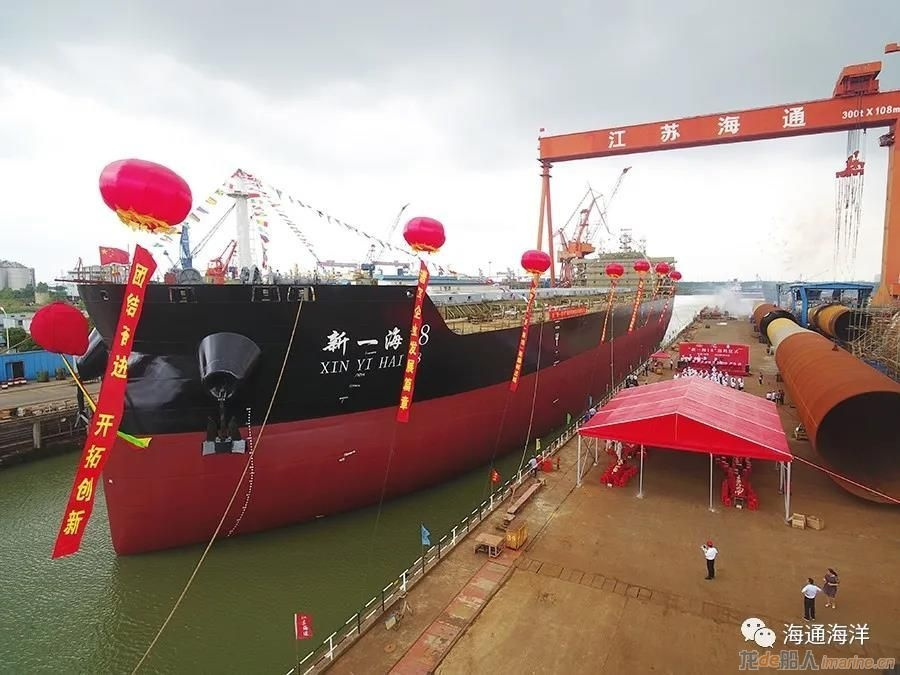otherboat: (51, 165, 669, 534)
